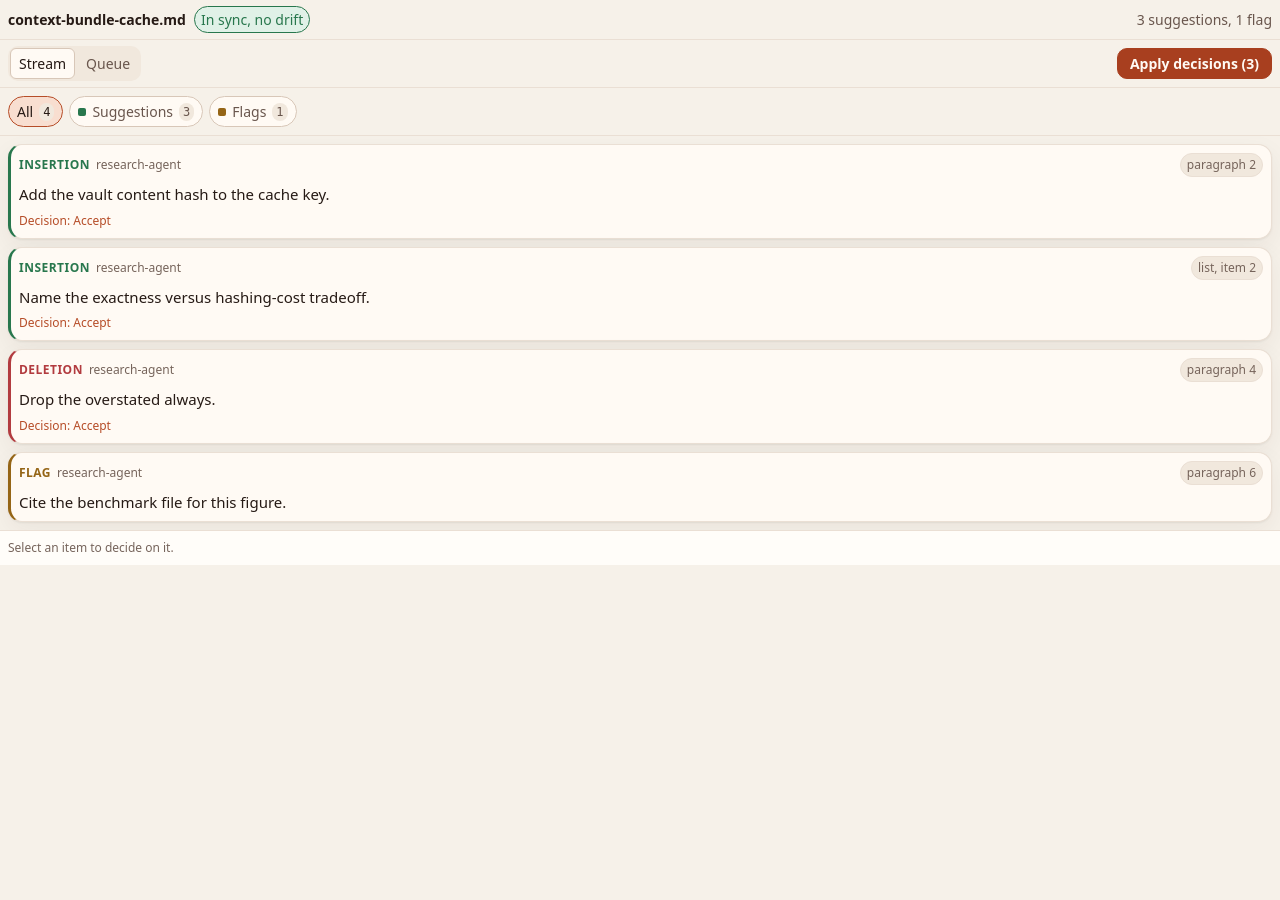
Scenario: ReviewPanel › merges retained blockers when the confirmed subset needs a second recovery
Expected: the text "Add the vault content hash to the cache key." is shown, [19, 184, 330, 204]
Click the button "Apply decisions (3)" at [1194, 64], box [1117, 48, 1272, 79]
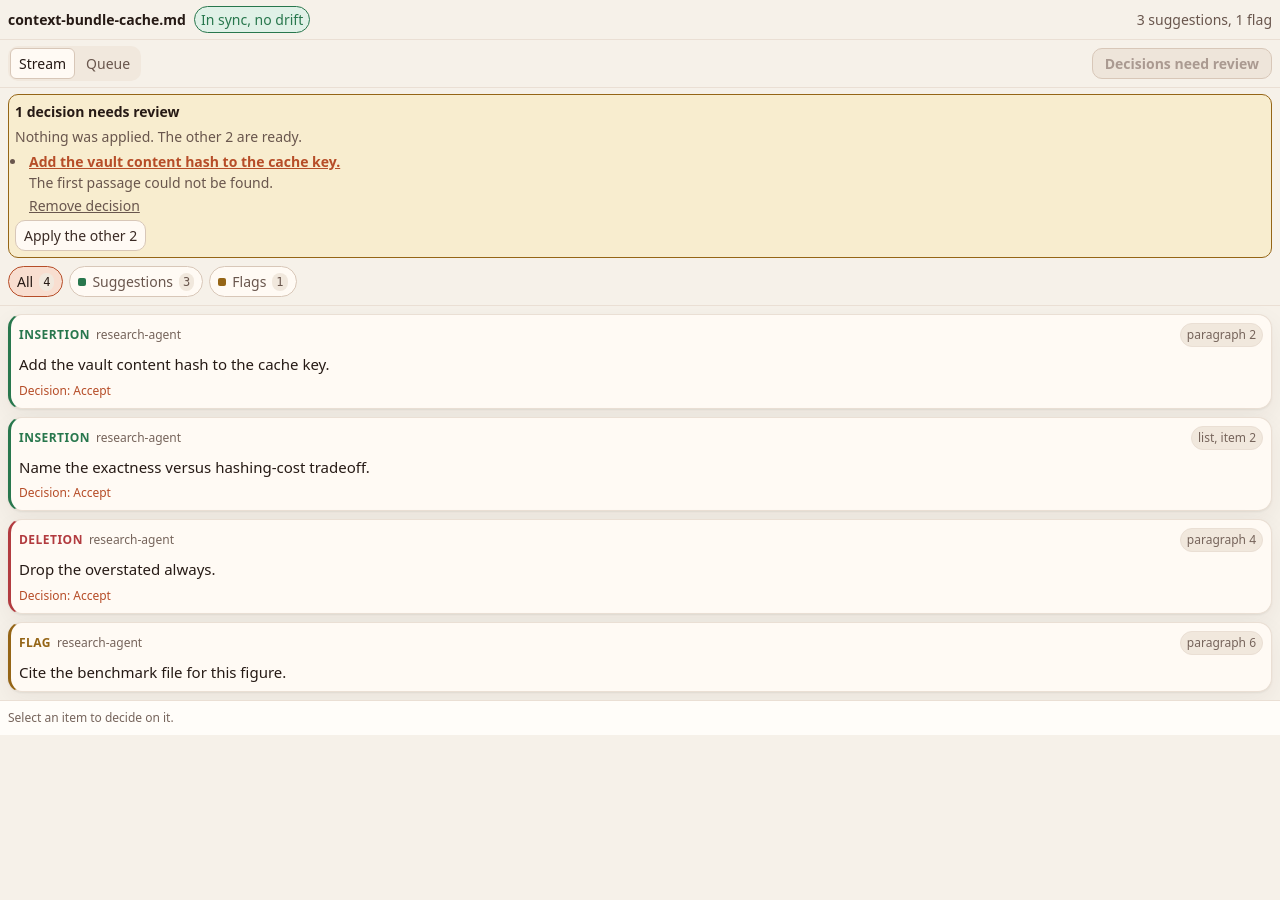
Click the button "Apply the other 2" at [81, 236], box [15, 220, 146, 251]
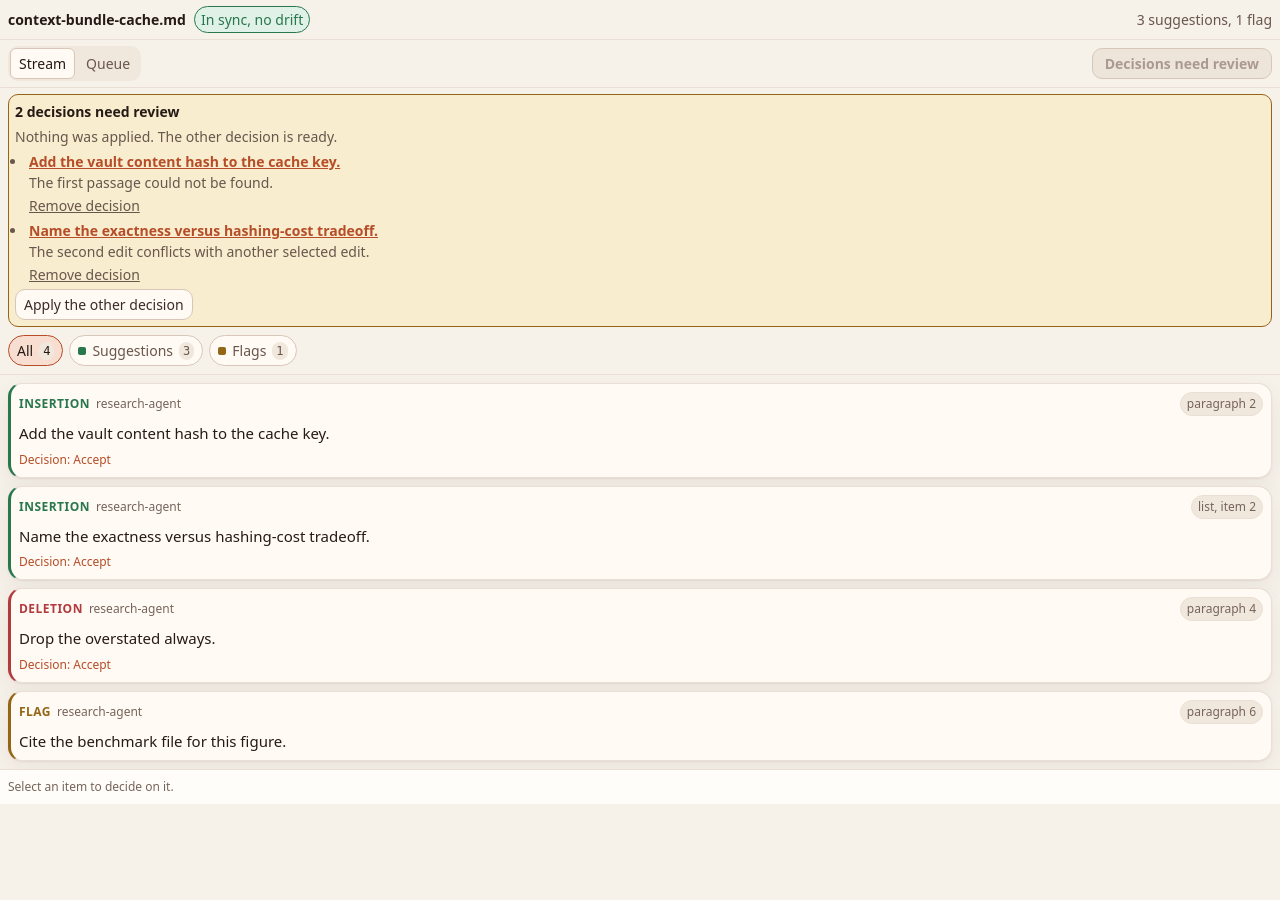
Expected: the text "The first passage could not be found." is shown, [29, 173, 273, 192]
Expected: the text "2 decisions need review" is shown, [15, 102, 180, 121]
Expected: the message that starts with "2 decisions" shows "The other decision is ready.", [154, 127, 337, 146]
